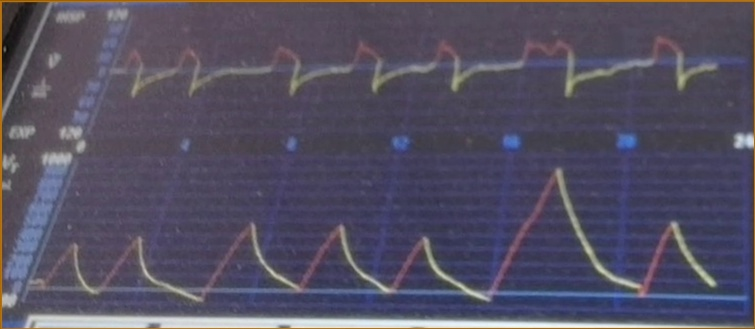Double_Triggering Flow: (121, 22, 721, 130)
Double_Triggering Volume: (42, 168, 717, 304)
